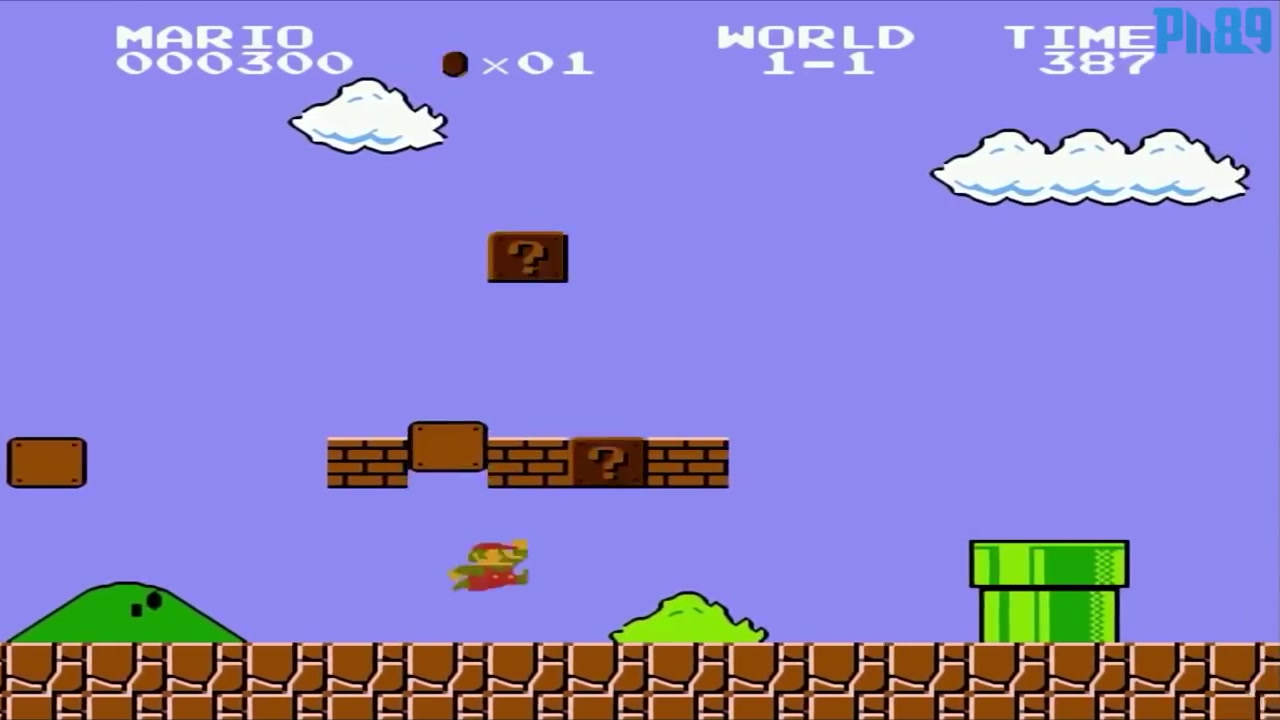mario: (434, 526, 535, 595)
